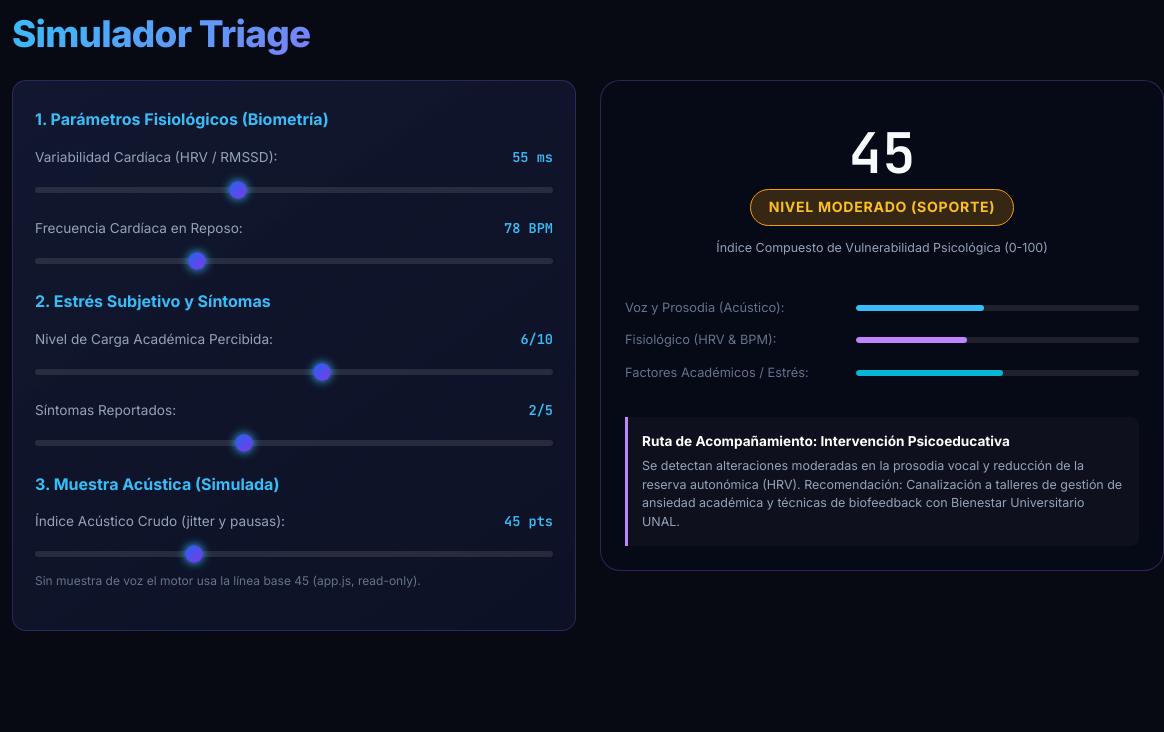
Test case: TriageSimulator (profile-triage-engine S6) › recomputes the score when an input changes (HRV drop raises risk)
Set the slider labelled "Variabilidad Cardíaca (HRV / RMSSD):" to "40": (155, 190) [35,186,553,192]
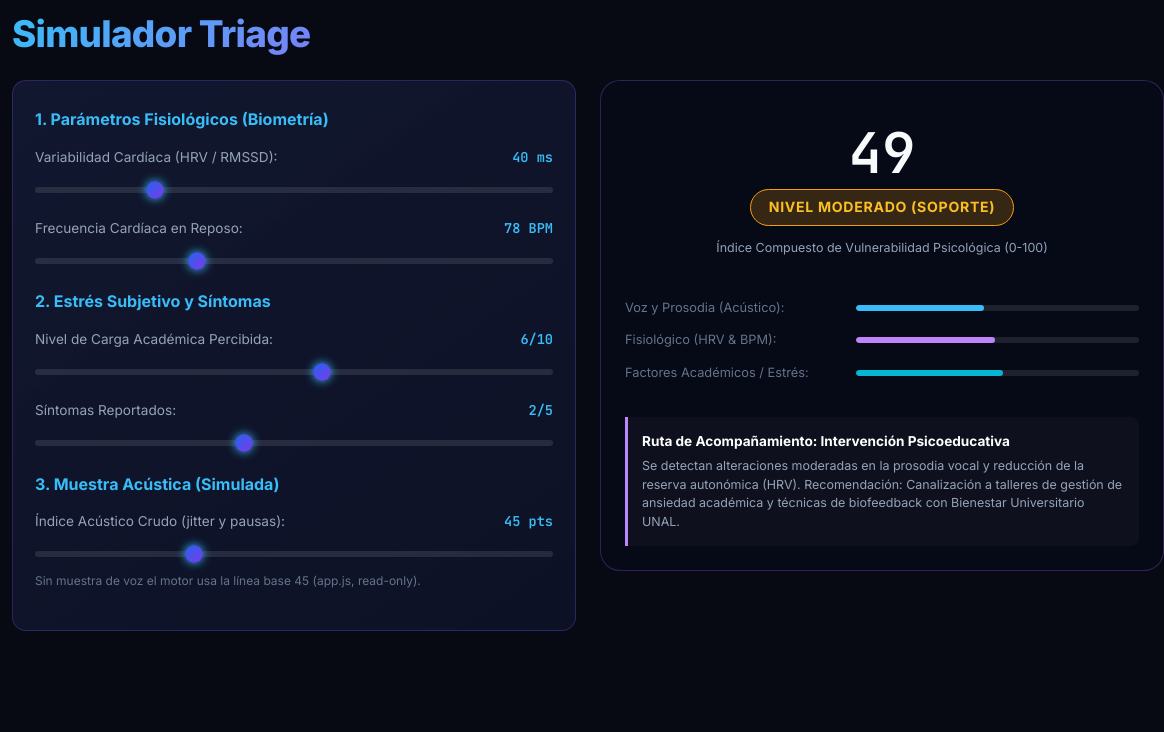
Expected: the text "Nivel Moderado (Soporte)" is shown, [750,189,1014,226]
Expected: the text with test id "triage-score" reads "49", [848,116,916,190]
